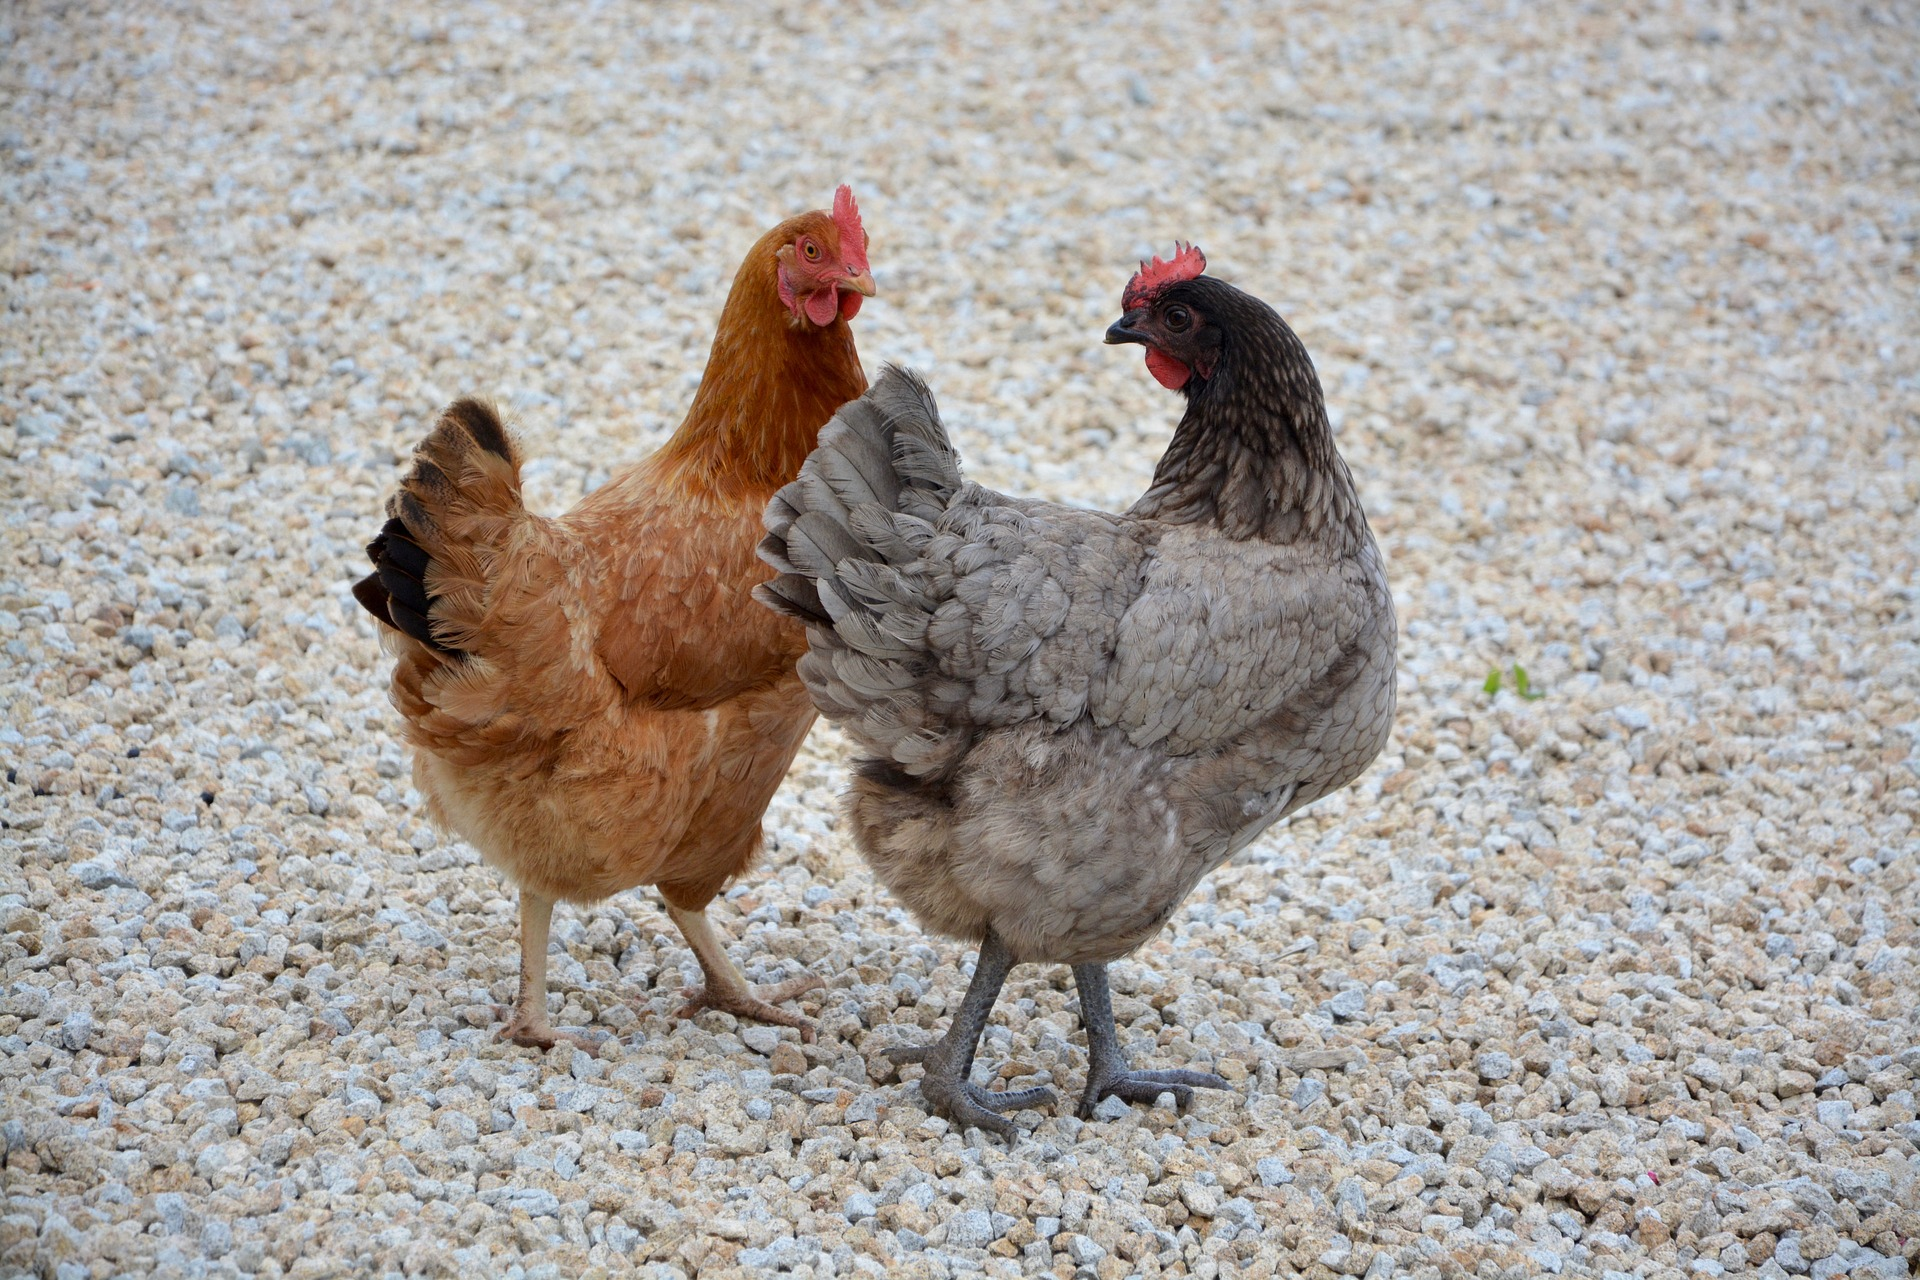chicken: (817, 246, 1417, 1144), (371, 171, 886, 1134)
